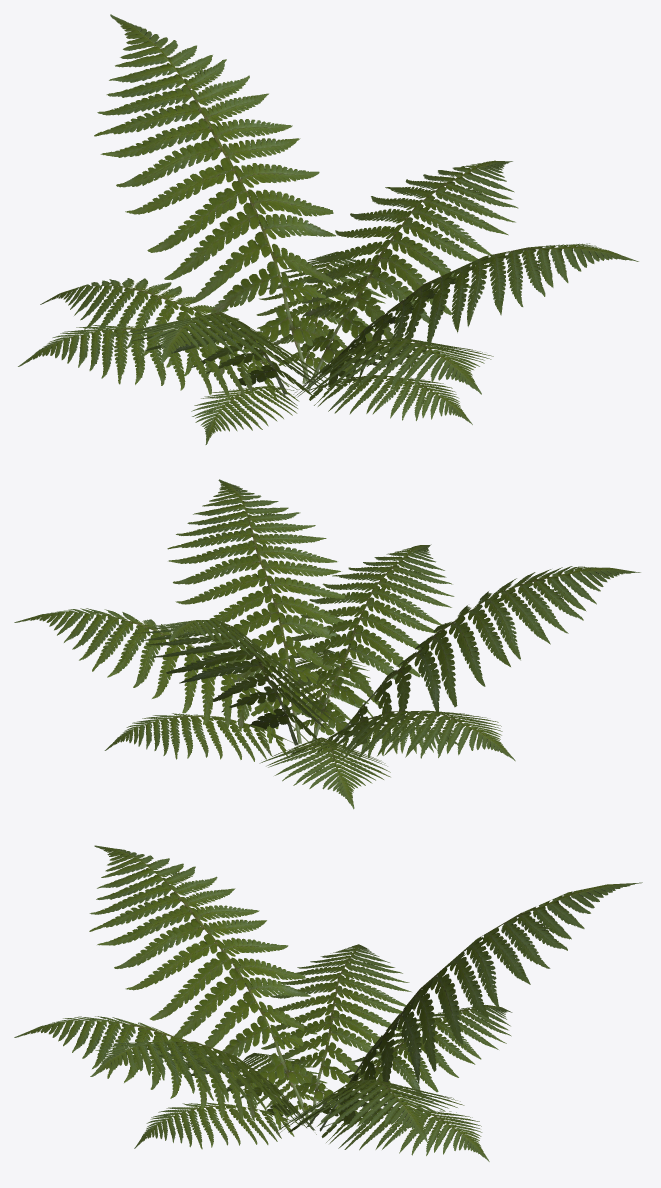
3 renders of one model, top to bottom at view 1: azimuth 30°, elevation 25°; view 2: azimuth 150°, elevation 25°; view 3: azimuth 270°, elevation 25°, orthographic. The views are drawn at different scales.
Visible parts, largest first — view 1: Tree_0; view 2: Tree_0; view 3: Tree_0.
Part boxes in pixels (bbox=[...]): Tree_0: bbox=[18, 14, 638, 444]; Tree_0: bbox=[14, 479, 640, 809]; Tree_0: bbox=[14, 845, 642, 1161].
Bounding box in the file's own units: 217 × 93.28 × 226.
1 material, 1 textured.
